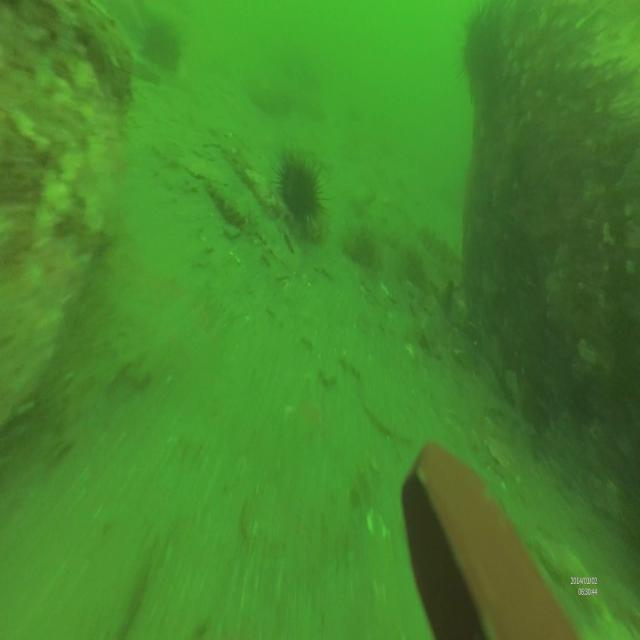echinus: (458, 5, 510, 102), (272, 145, 324, 218), (140, 16, 184, 76)
